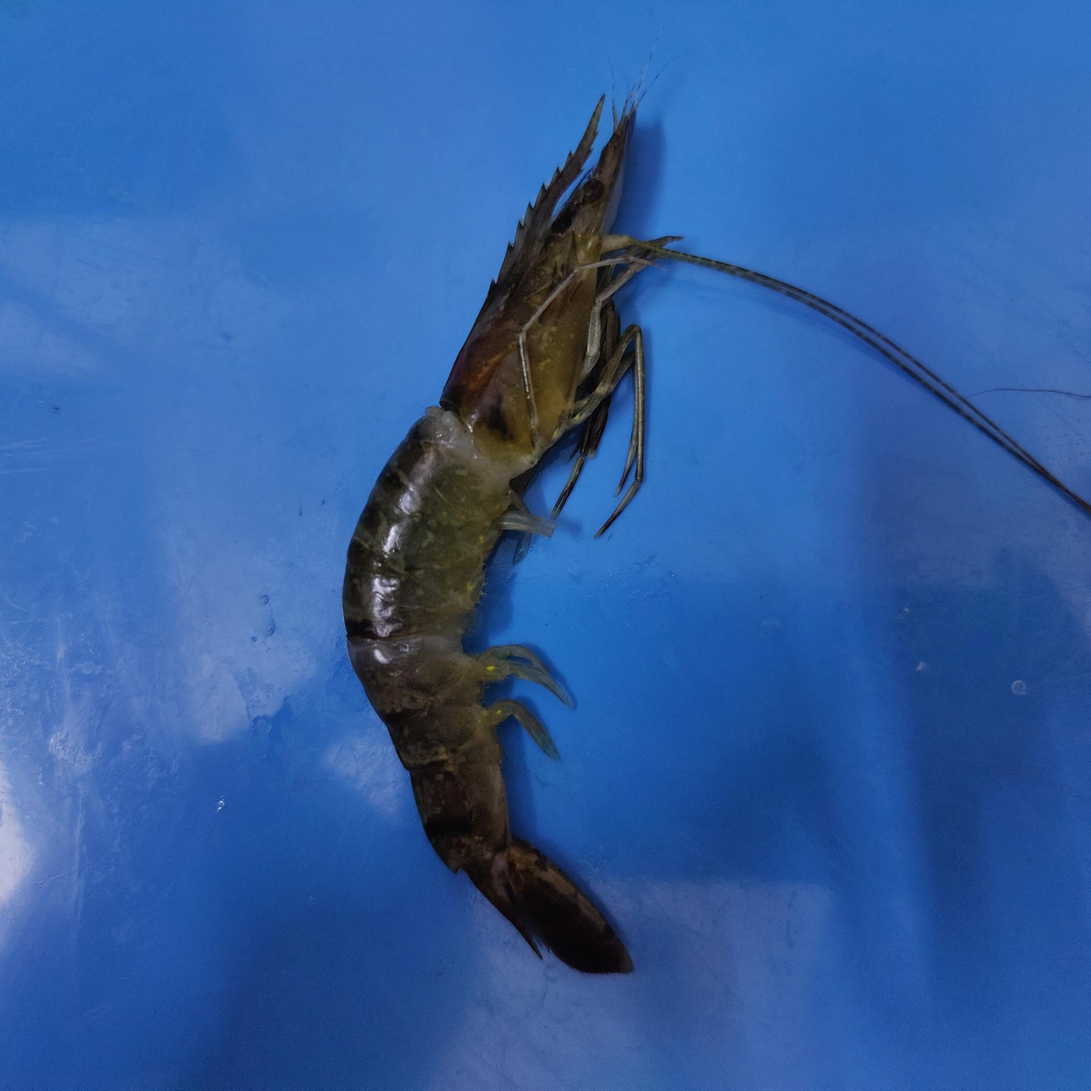whitespot: (409, 464, 501, 627), (526, 307, 580, 381), (488, 358, 527, 420), (358, 657, 395, 689)
